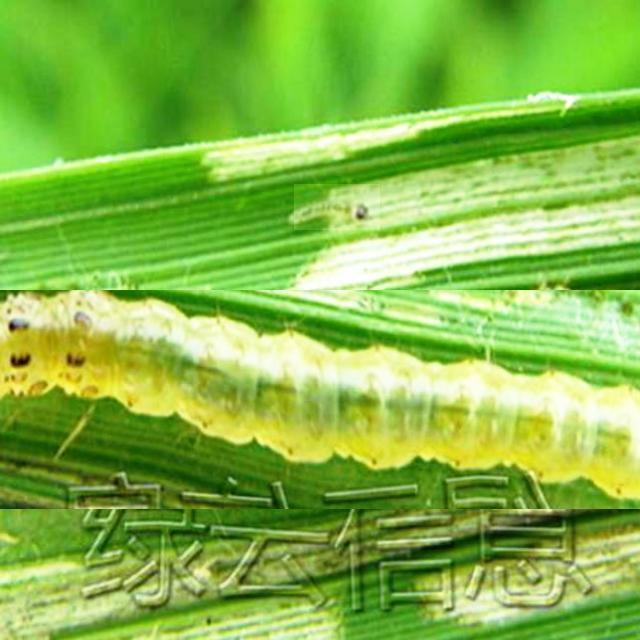leaf-folder: (0, 290, 640, 509), (294, 184, 380, 230)
